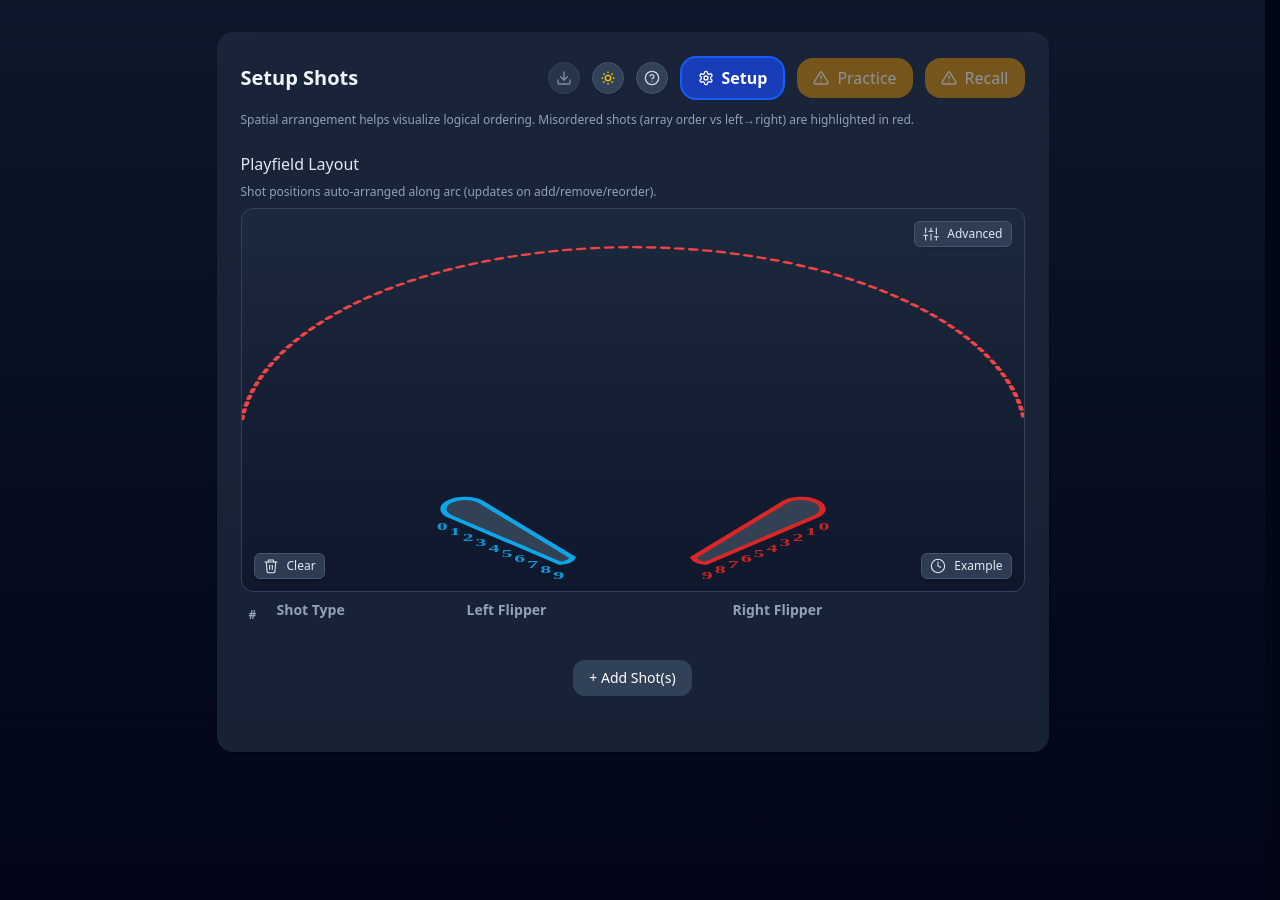
App - Comprehensive Integration Tests › should open and close the info modal
The width and height of the screenshot is (1280, 900).
Check: the heading "Setup Shots" is shown, box [240,64,358,92]
Note: Open info modal
Click the button named "about" at {"x": 652, "y": 78}, box [636,62,668,94]
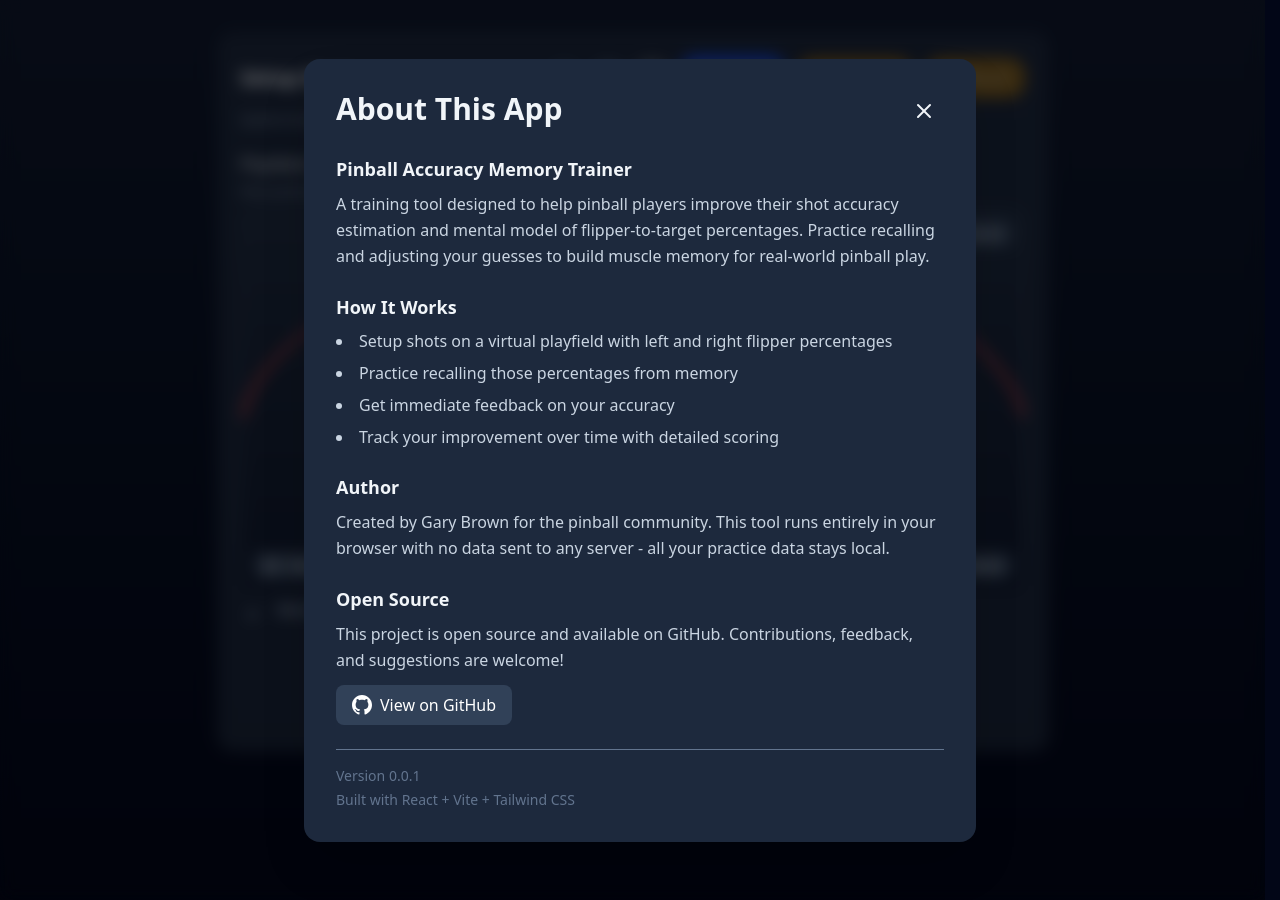
Check: the heading "Pinball Accuracy Memory Trainer" is shown, box [336,156,632,180]
Click the button named "close" at {"x": 77, "y": 450}, box [0,0,1279,899]
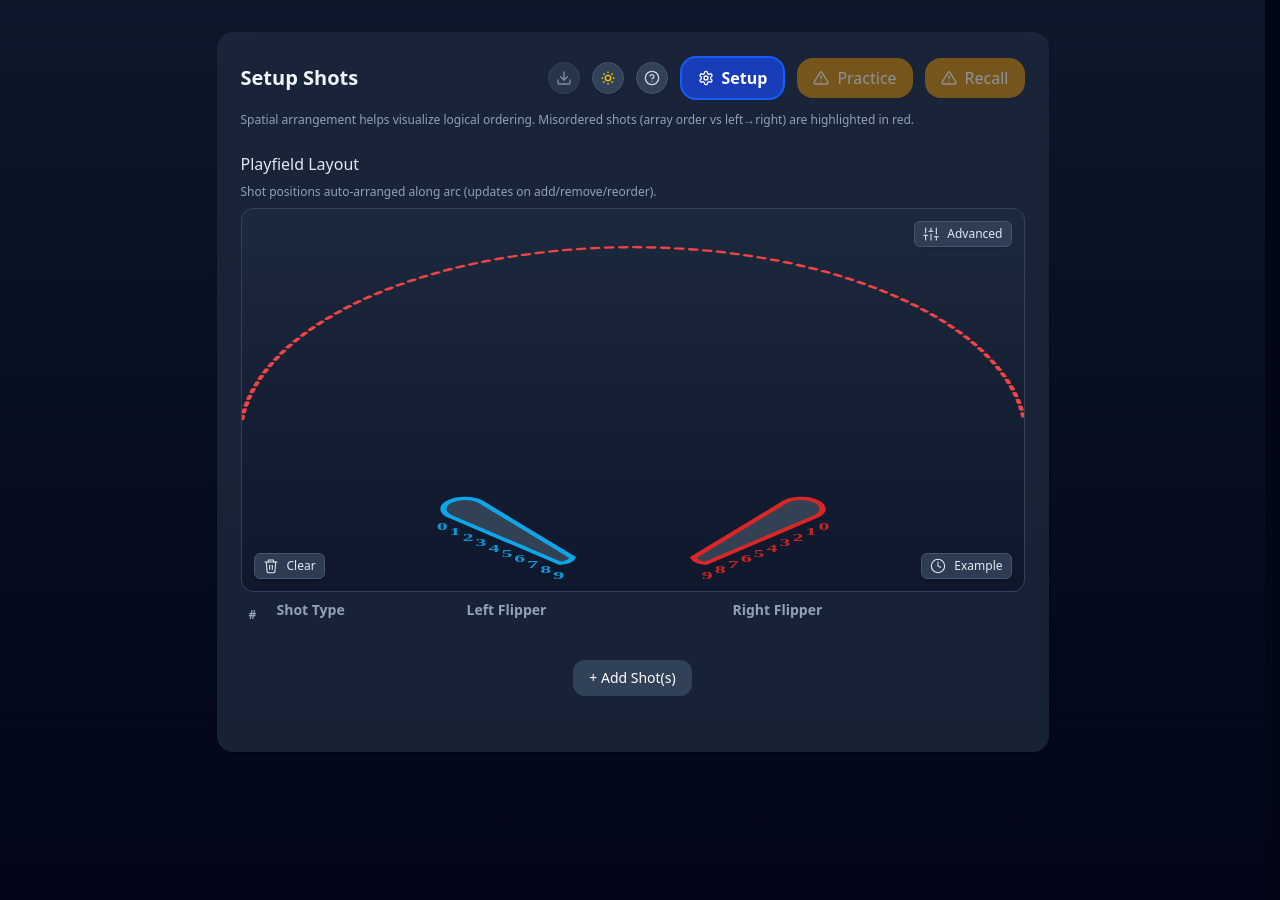
Check: the heading "Memory Trainer" is gone
